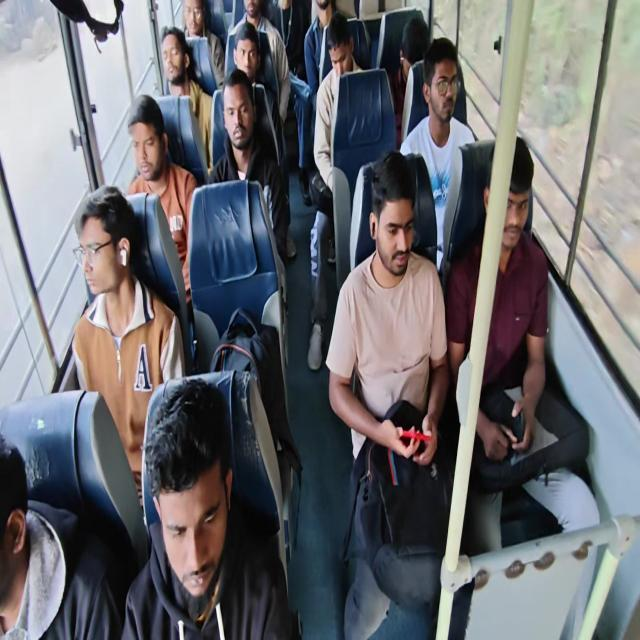person: (136, 354, 268, 640), (0, 437, 76, 640), (354, 144, 433, 286), (468, 142, 544, 267), (80, 168, 136, 333), (118, 101, 159, 205), (229, 99, 272, 175), (164, 22, 201, 104), (235, 14, 268, 91), (432, 46, 461, 130), (396, 17, 434, 74), (277, 0, 300, 63), (326, 19, 352, 62), (177, 1, 210, 32), (244, 0, 270, 17), (315, 0, 330, 27)
